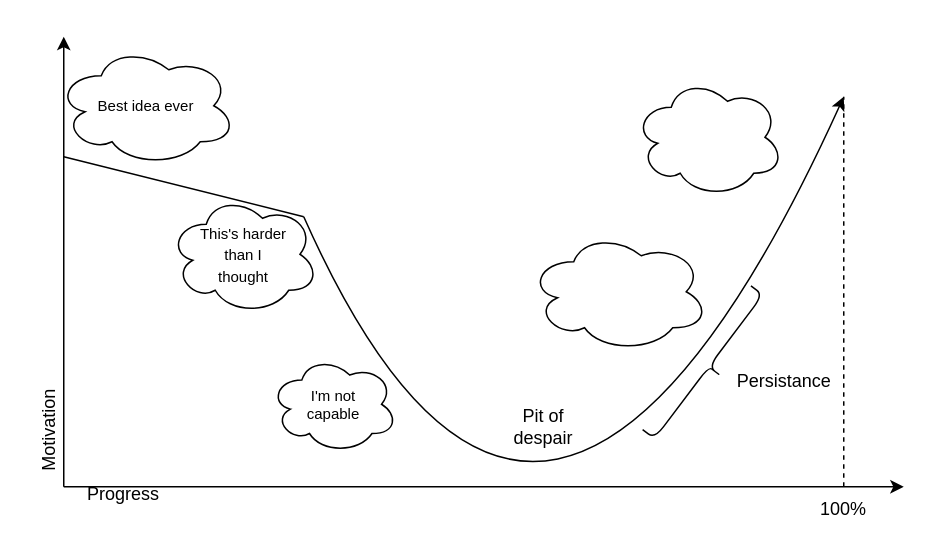
The diagram is 942 pixels wide and 558 high, and some of its shapes have lost their labels. Here are the shapes that lost their labels. From the top down, the centre of each, then its label:
(x=708, y=136): Made it!
(x=618, y=291): Maybe I can
